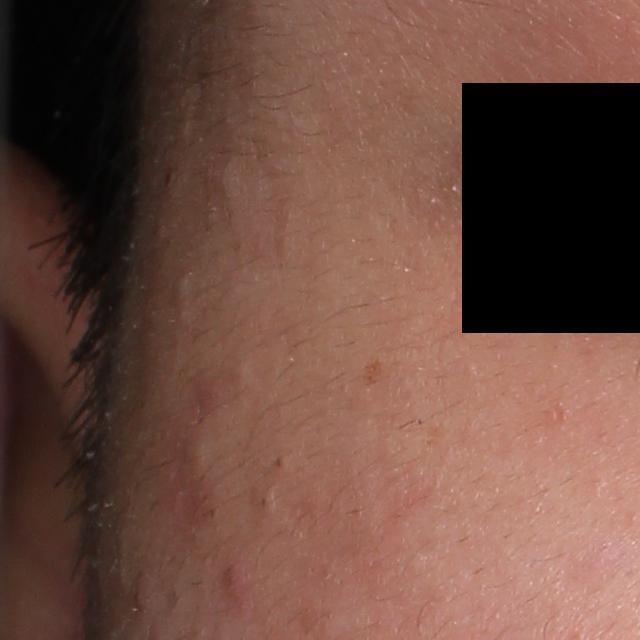comedo: (177, 438, 211, 470), (249, 489, 275, 516), (173, 271, 193, 305), (268, 452, 286, 471)
melasma: (355, 354, 388, 391)
papule: (219, 559, 250, 602)
